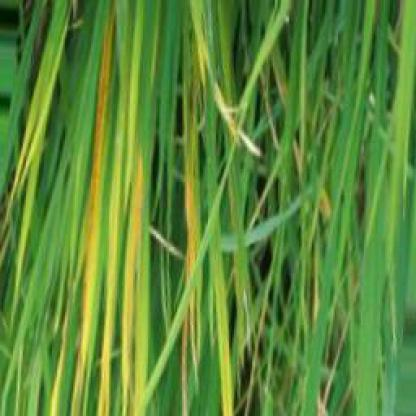Tungro: (73, 7, 119, 415), (115, 11, 153, 416), (175, 94, 208, 416), (8, 21, 50, 234), (212, 214, 240, 416)
